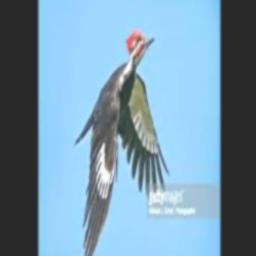Woodpecker: (74, 30, 170, 256)
